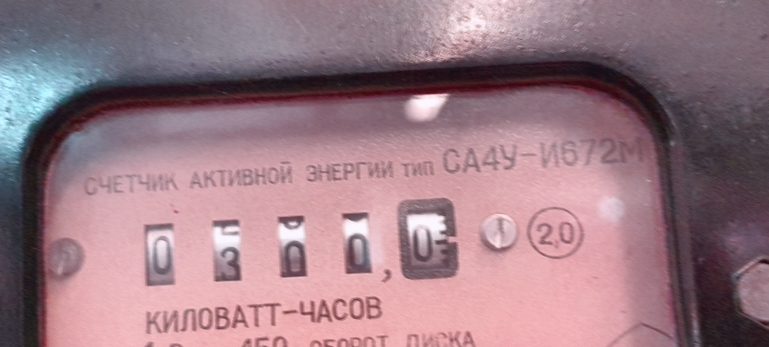0: (148, 229, 175, 277), (344, 228, 372, 273), (407, 219, 435, 264), (280, 235, 307, 278)
3: (216, 241, 242, 282)
screen: (120, 176, 480, 316)
